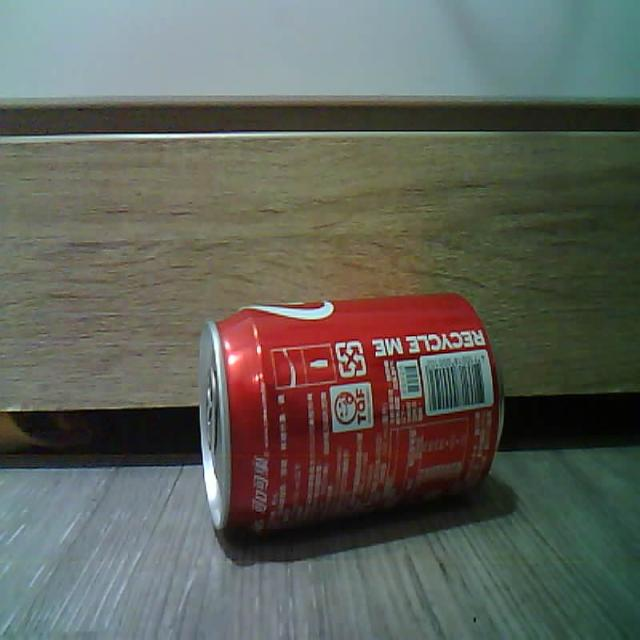can: (199, 293, 503, 533)
